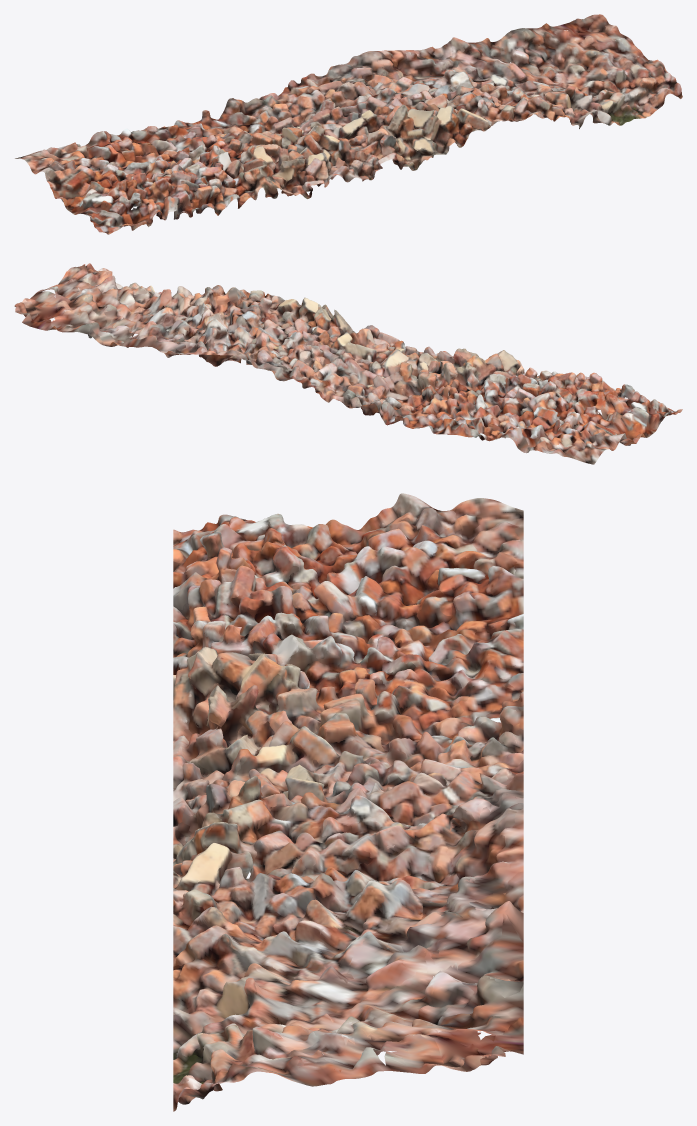
3 renders of one model, top to bottom at view 1: azimuth 30°, elevation 25°; view 2: azimuth 150°, elevation 25°; view 3: azimuth 270°, elevation 25°, orthographic. The views are drawn at different scales.
Visible parts, largest first — view 1: mesh_main_0 (×4); view 2: mesh_main_0 (×4); view 3: mesh_main_0 (×4).
Part boxes in pixels (x1=…): mesh_main_0 (×4): x1=15, y1=14, x2=682, y2=234; mesh_main_0 (×4): x1=14, y1=263, x2=682, y2=464; mesh_main_0 (×4): x1=173, y1=493, x2=523, y2=1111.
Bounding box in the file's own units: 6.49 × 0.5773 × 1.69.
Materials: 1 (1 with a texture image).
